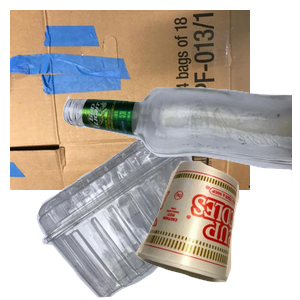cardboard: (10, 10, 250, 190)
glass: (60, 84, 300, 260)
plastic: (34, 130, 246, 300)
trash: (133, 158, 300, 300)
